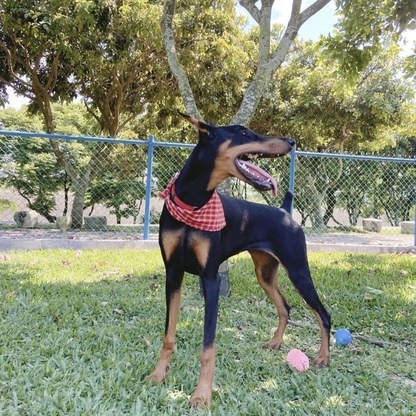doberman: (153, 110, 333, 410)
